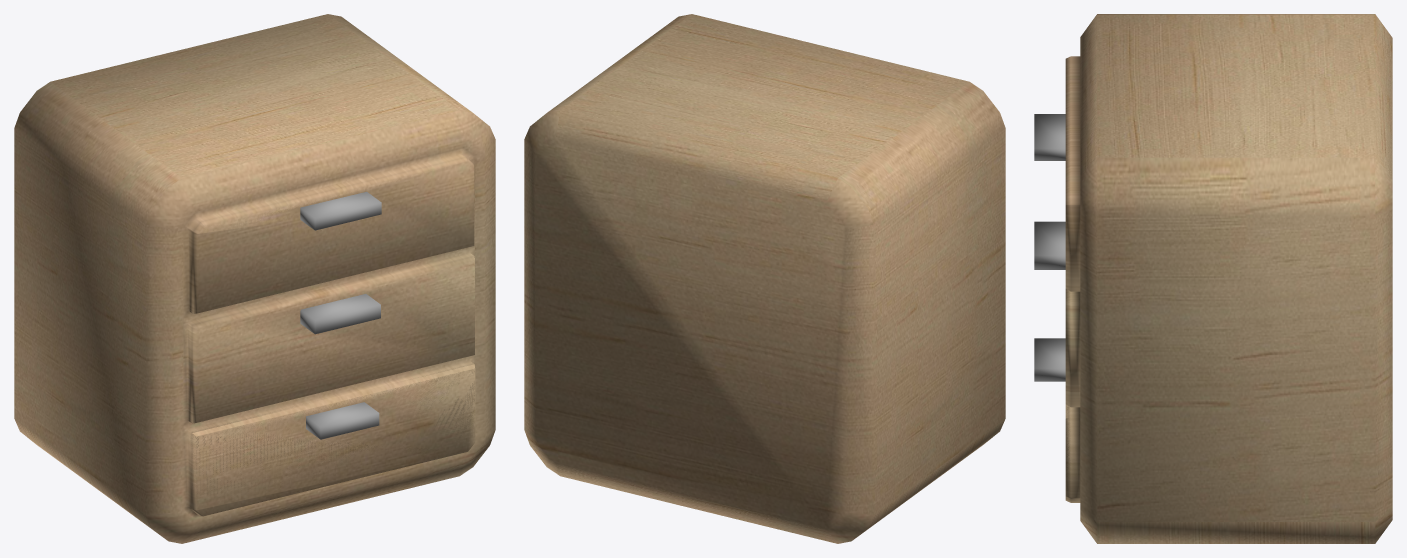
The model's file is mesita camagradne.fbx.
3 renders of one model, left to right at view 1: azimuth 30°, elevation 25°; view 2: azimuth 150°, elevation 25°; view 3: azimuth 270°, elevation 25°, orthographic. The views are drawn at different scales.
Parts seen in each view (by area): view 1: mueble tele.002; view 2: mueble tele.002; view 3: mueble tele.002.
Part boxes in pixels (box(x1,y1,x2,y2)): mueble tele.002: box(14, 14, 495, 543); mueble tele.002: box(524, 14, 1005, 543); mueble tele.002: box(1034, 14, 1392, 543).
Size of the model in its own units: 360 by 360 by 303.
